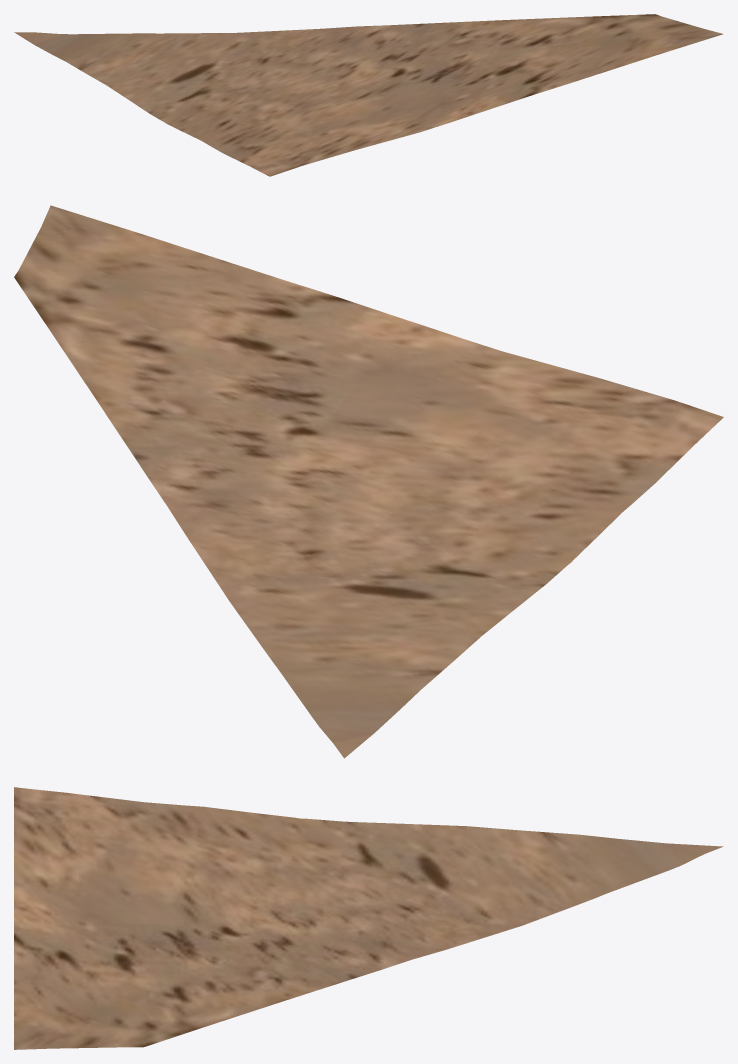
3 renders of one model, top to bottom at view 1: azimuth 30°, elevation 25°; view 2: azimuth 150°, elevation 25°; view 3: azimuth 270°, elevation 25°, orthographic. The views are drawn at different scales.
Bounding box in the file's own units: 6.63 × 1.04 × 6.47.
Materials: 1 (1 with a texture image).
